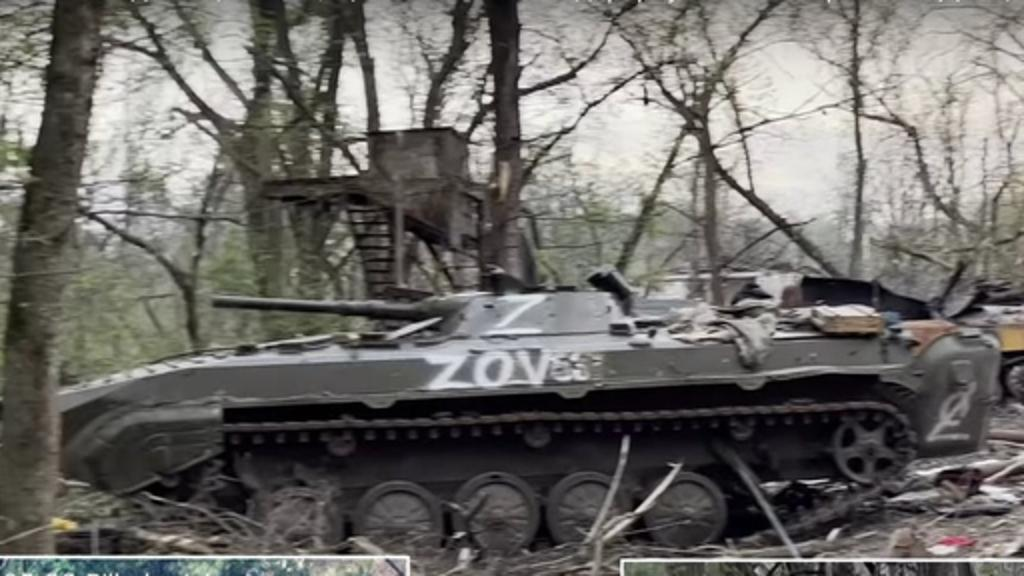APC-IFV: (12, 266, 996, 560)
